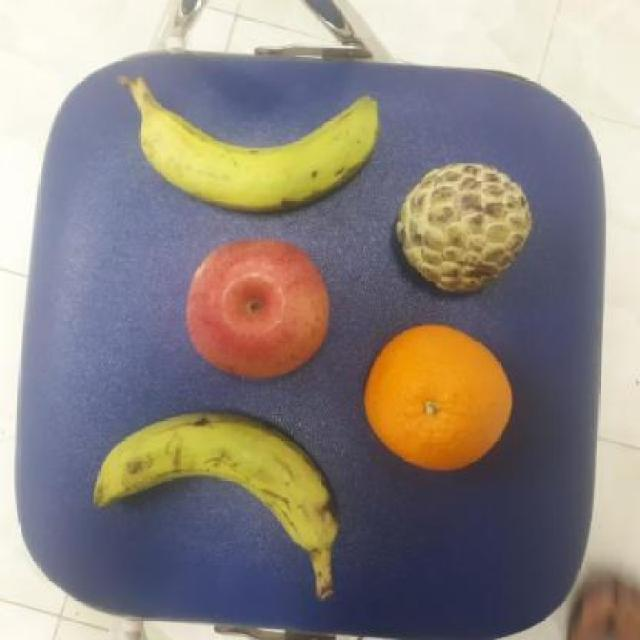apple: (184, 237, 331, 381)
banana: (90, 411, 344, 552), (128, 91, 382, 214)
oren: (363, 324, 512, 474)
sugar apple: (390, 156, 536, 296)
